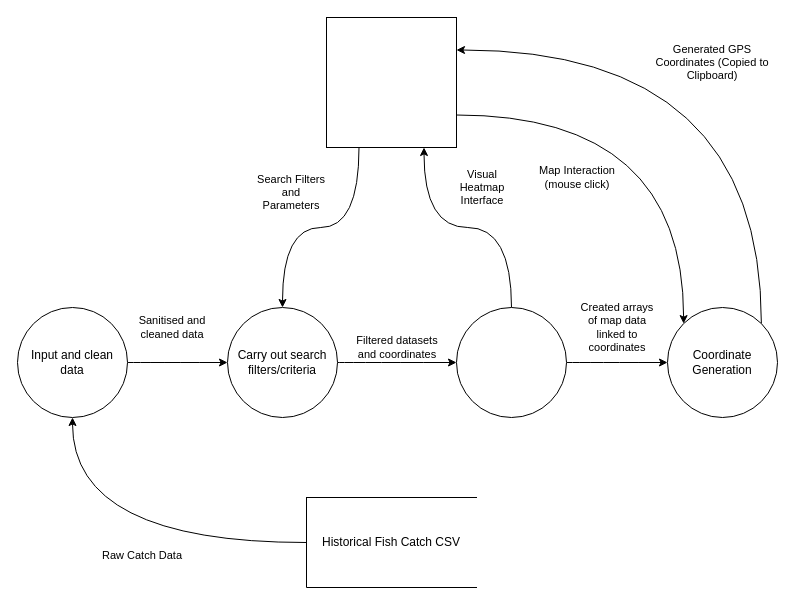
Some shapes in this 795 by 605 pixel diagram are drawn without their labels. Here are the shapes that lost their labels. From the top down, the box of each, then its label:
(326, 16, 456, 148): Charter Captain/Customer
(456, 306, 566, 418): Generate and render visal heatmap
